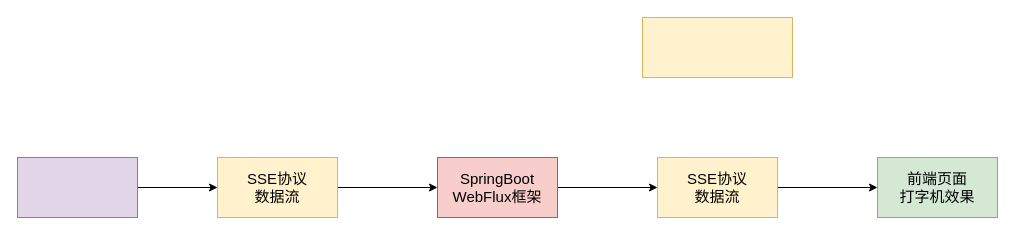
Image size: 1015x235. Some labels were removed from this diagram. Here are the shapes that lost their labels. From the top down, the centre of each, then its label:
At (x=717, y=47): "Flux<String>".
At (x=77, y=187): "AI大模型".
